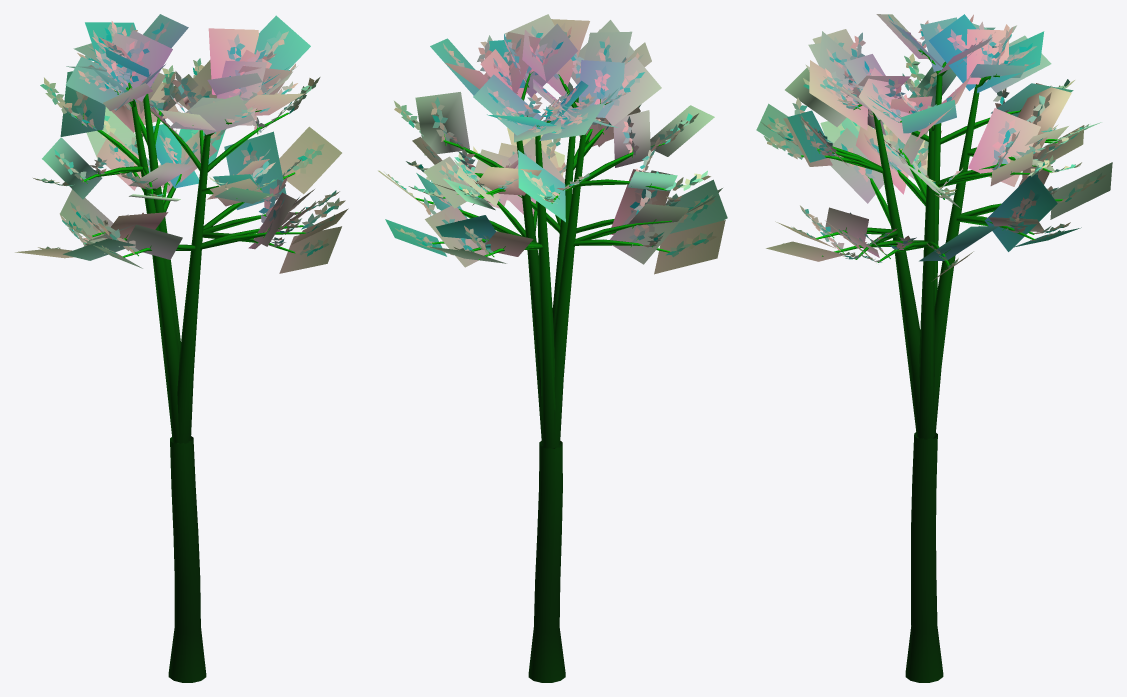
File: tall_shade_2.glb
The picture shows the model from 3 angles, left to right: view 1: azimuth 30°, elevation 25°; view 2: azimuth 150°, elevation 25°; view 3: azimuth 270°, elevation 25°; orthographic projection.
Parts seen in each view (by area): view 1: mid, near; view 2: mid, near; view 3: mid, near.
Boxes of the visible parts, <box> form: mid: <box>15,14,348,443</box>; near: <box>33,21,345,682</box>; mid: <box>378,14,727,448</box>; near: <box>384,22,716,682</box>; mid: <box>756,14,1112,439</box>; near: <box>761,14,1106,682</box>.
Size of the model in its own units: 12.57 by 22.57 by 11.51.
